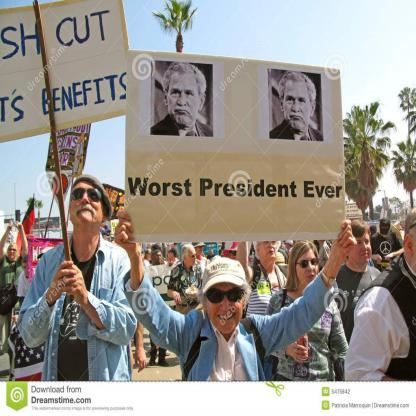face: (208, 285, 243, 334), (168, 75, 200, 125), (71, 188, 103, 226), (285, 84, 312, 129), (349, 236, 373, 265), (298, 257, 318, 287), (261, 239, 279, 259), (187, 253, 197, 267), (24, 265, 32, 278), (232, 251, 241, 262), (105, 232, 111, 244), (197, 245, 204, 255), (155, 256, 162, 265), (382, 230, 389, 238), (10, 250, 16, 258), (23, 250, 29, 256), (148, 253, 152, 260), (139, 251, 143, 258), (170, 253, 173, 260), (201, 255, 205, 260), (373, 231, 378, 235), (160, 262, 163, 267), (287, 244, 290, 249), (112, 239, 115, 243), (167, 256, 169, 262), (212, 252, 214, 257), (177, 257, 179, 261), (211, 254, 213, 258), (251, 250, 253, 254), (222, 252, 224, 255), (206, 257, 208, 260), (332, 243, 334, 246), (326, 242, 328, 245), (222, 257, 224, 259), (254, 253, 255, 256), (401, 225, 402, 227)
